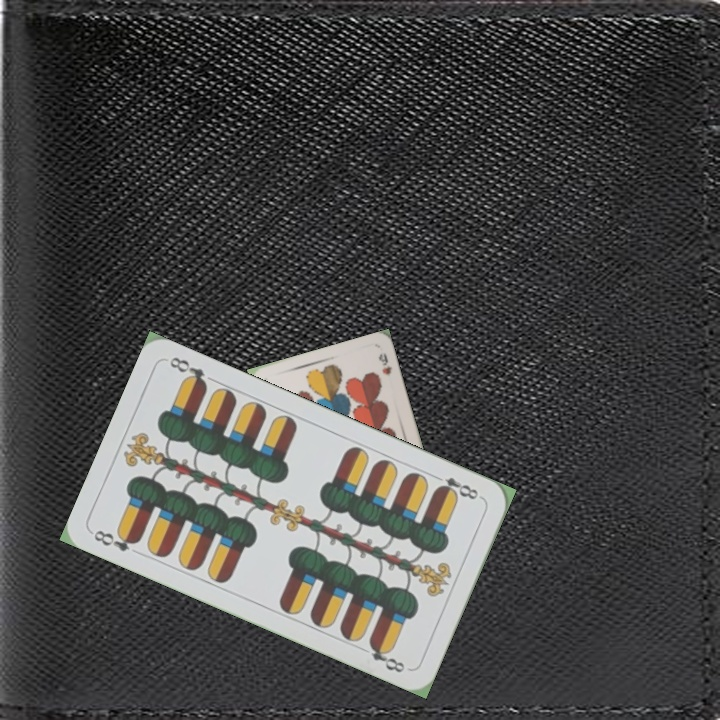E8: (429, 470, 485, 503), (89, 526, 142, 554)
